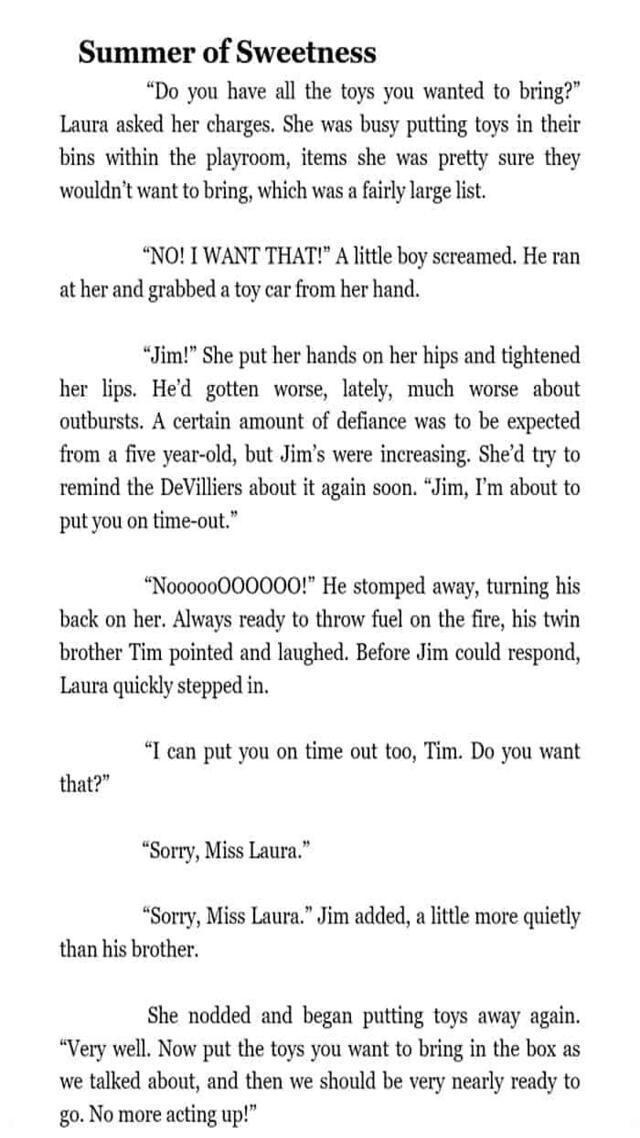Text: (54, 107, 590, 140), (51, 436, 586, 468), (52, 471, 584, 502), (55, 144, 591, 174), (51, 375, 587, 404), (54, 639, 588, 668), (51, 408, 588, 436), (51, 1068, 586, 1096), (58, 1036, 588, 1064), (138, 340, 590, 372), (141, 737, 592, 769), (141, 1001, 590, 1033), (138, 568, 584, 600), (54, 608, 589, 634), (137, 902, 589, 932), (53, 178, 490, 206), (137, 78, 590, 105), (140, 242, 588, 269), (54, 276, 428, 306), (72, 35, 386, 65), (53, 673, 277, 703), (56, 506, 243, 538), (136, 836, 318, 866), (54, 937, 212, 966), (54, 768, 112, 800)
